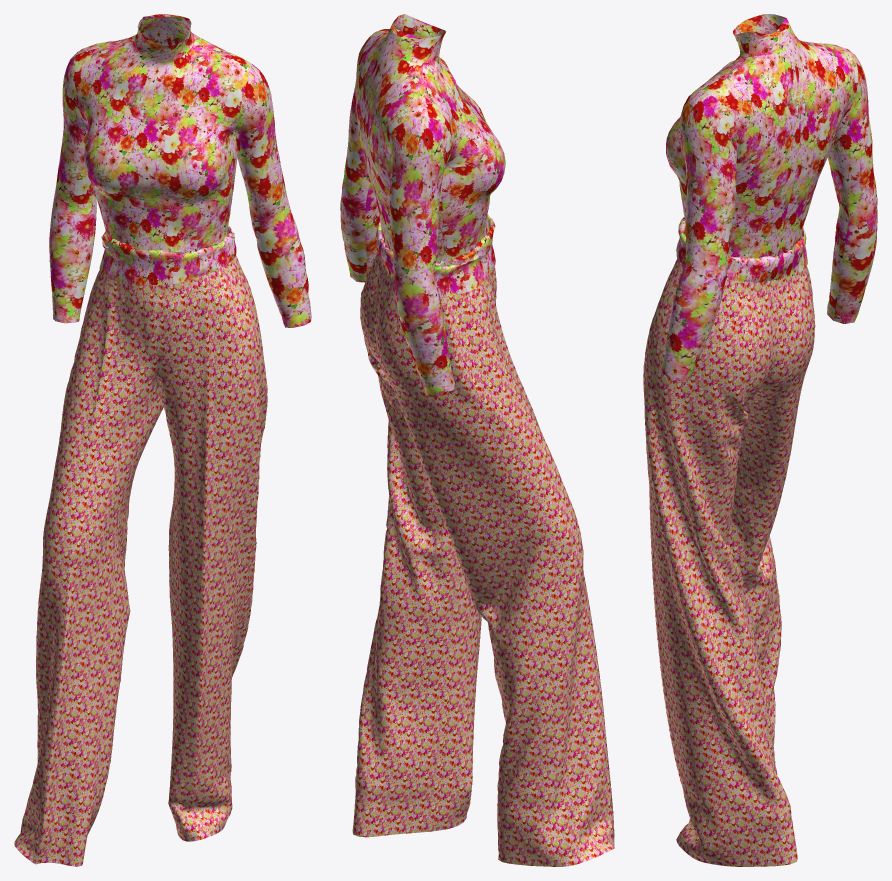
Rendered from DA_HighNeck+WidePants_0000092.obj.
The picture shows the model from 3 angles, left to right: view 1: azimuth 30°, elevation 25°; view 2: azimuth 150°, elevation 25°; view 3: azimuth 270°, elevation 25°; orthographic projection. The views are drawn at different scales.
Bounding box in the file's own units: 0.5806 × 1.63 × 0.4176.
